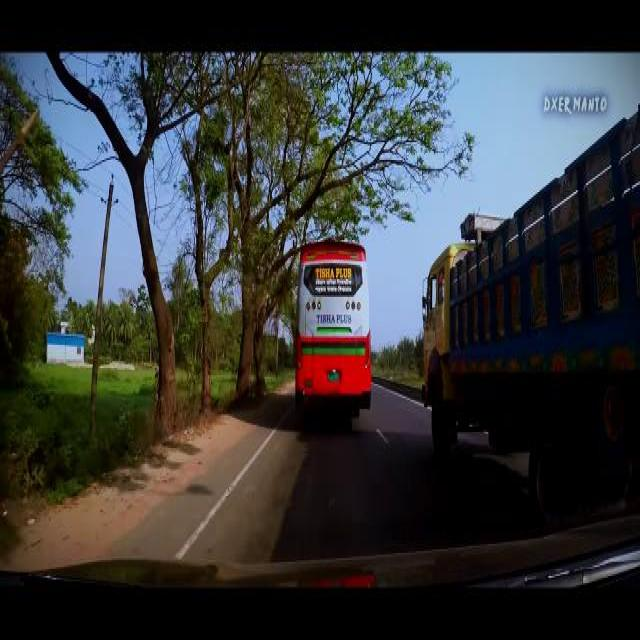18: (420, 122, 640, 514)
Truck: (293, 236, 371, 412)
